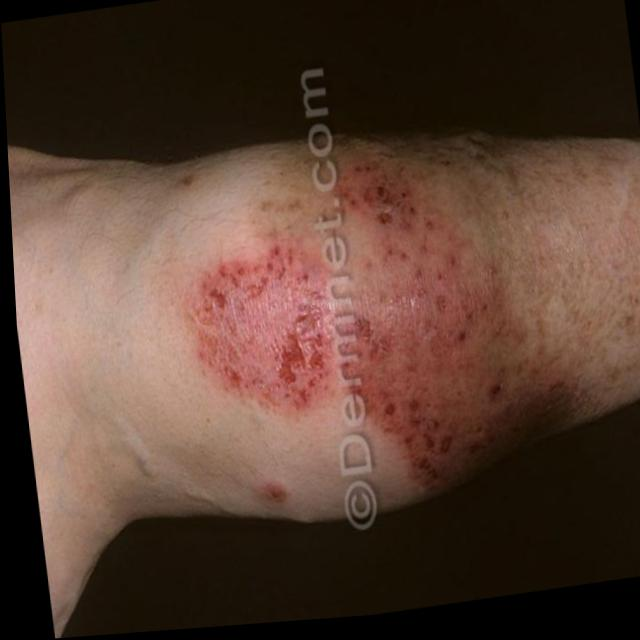Eczema: (187, 157, 532, 502)
